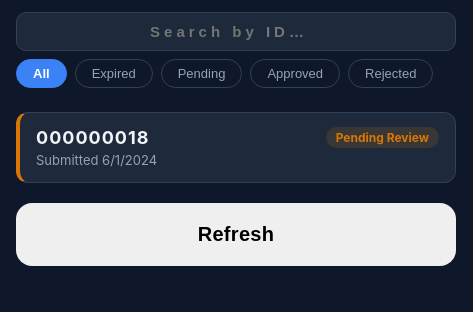
Scenario: MySubmissions — search › shows "No results for..." message when search has no matches
Expected: the text "000000018" is shown, [36,127,150,148]
Step 1. Type "999" into the search field with placeholder "Search by ID…" → (236, 32), box [16,12,456,51]
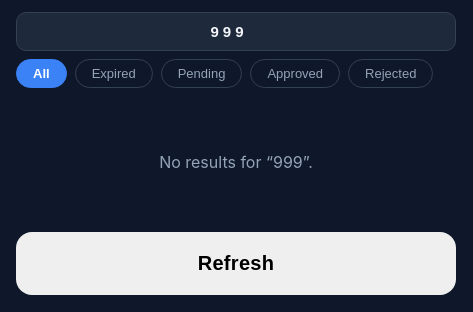
Result: the text "No results for “999”." is shown at [159,152,313,172]
